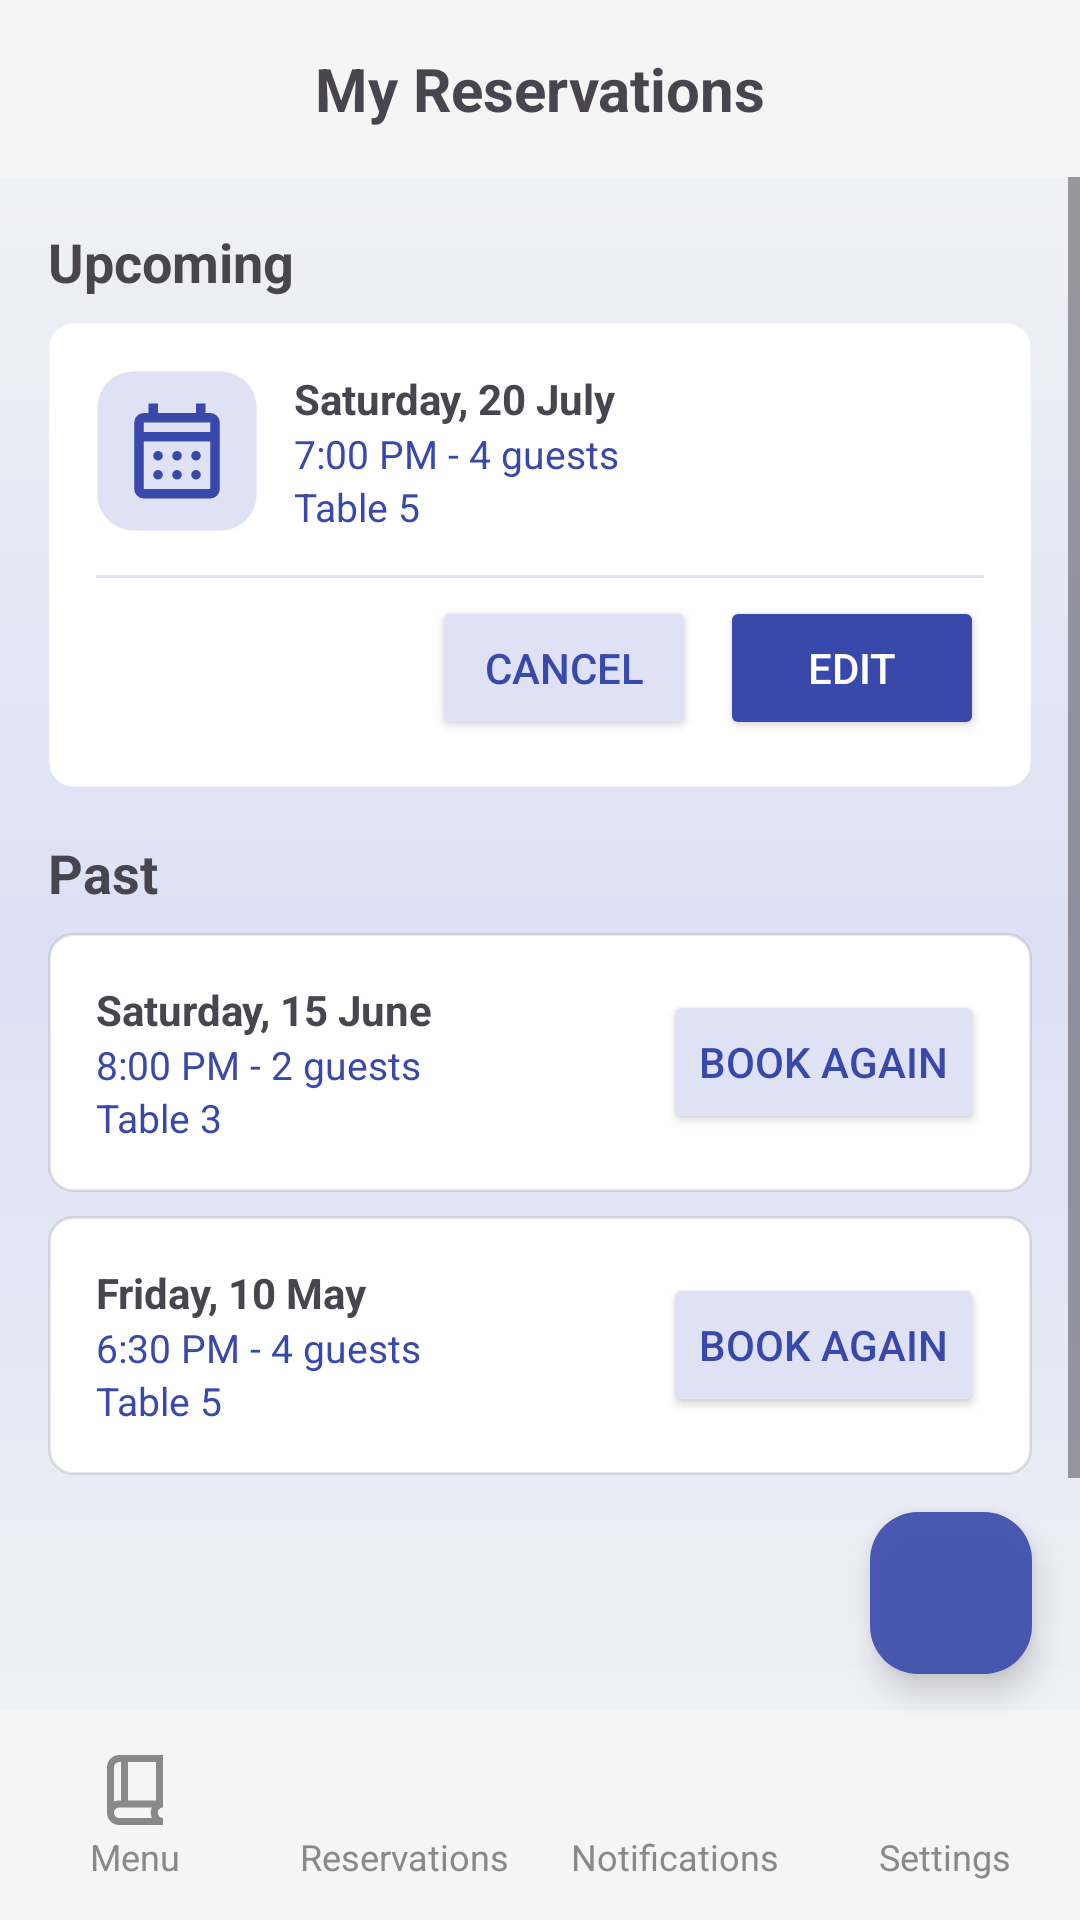

Point at icon controls on the screen. Image size 1080 x 1920, points as [x,y].
reservation: [177,451]
